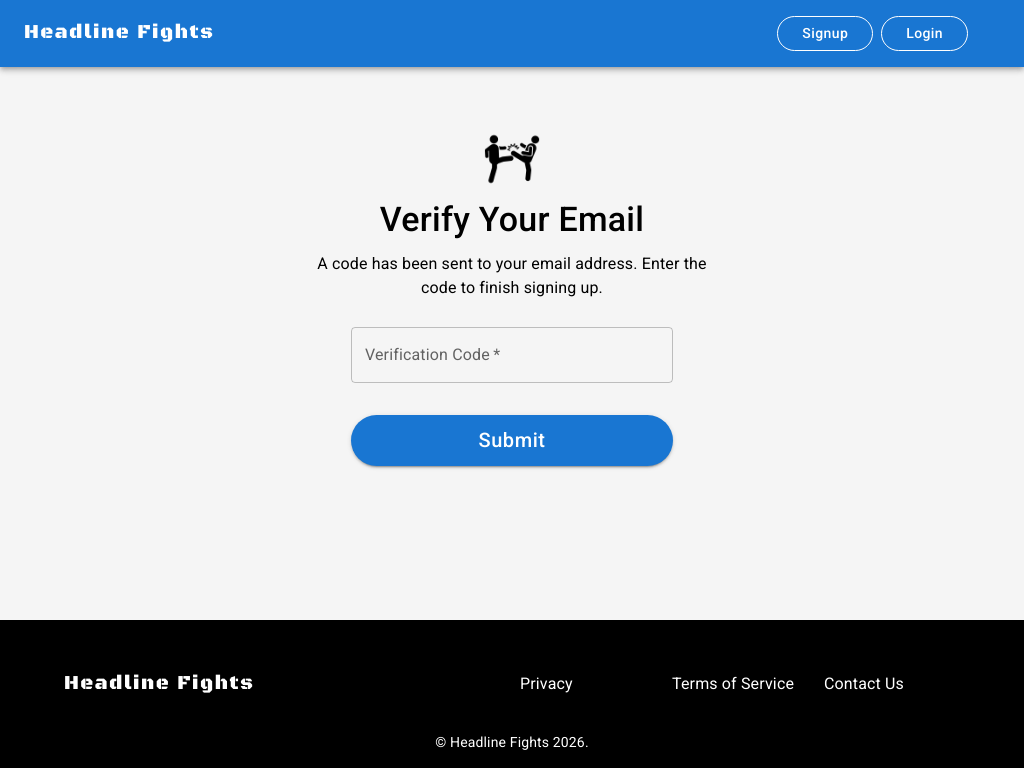
Test: Verify page › shows expired-code error when submitted_in_time is false
Type "000000" into the field labelled "Verification Code *" at (512, 356), box 351,328 -> 673,384
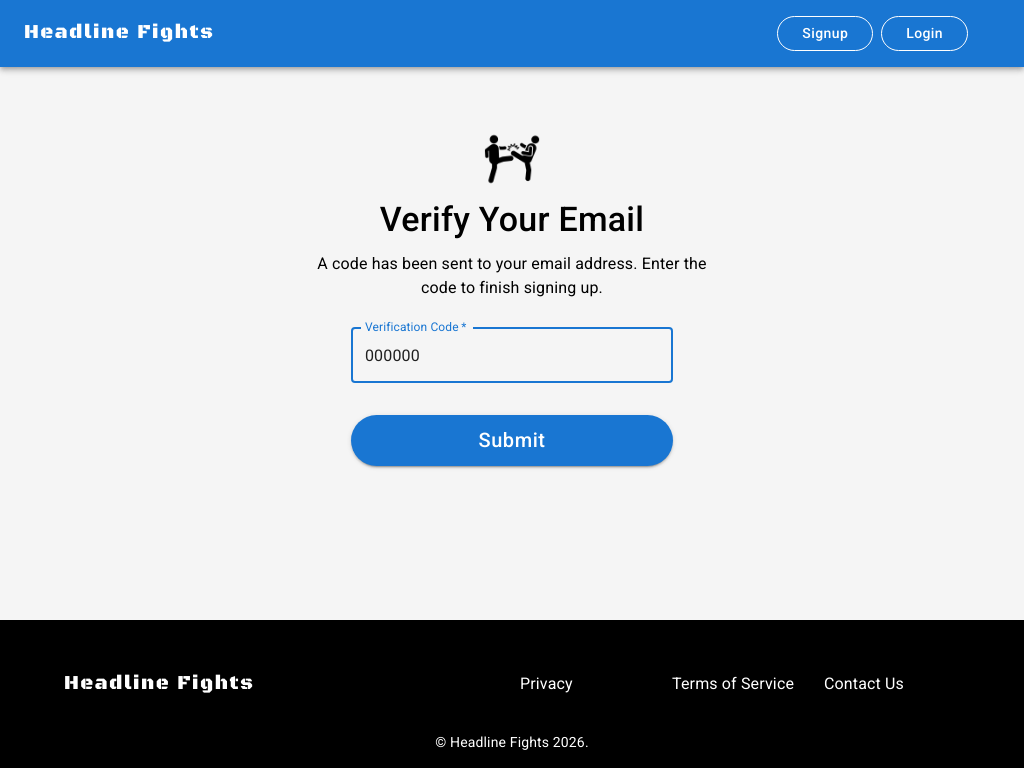
Submit the form "Verification Code * Submit", box 351,312 -> 673,482
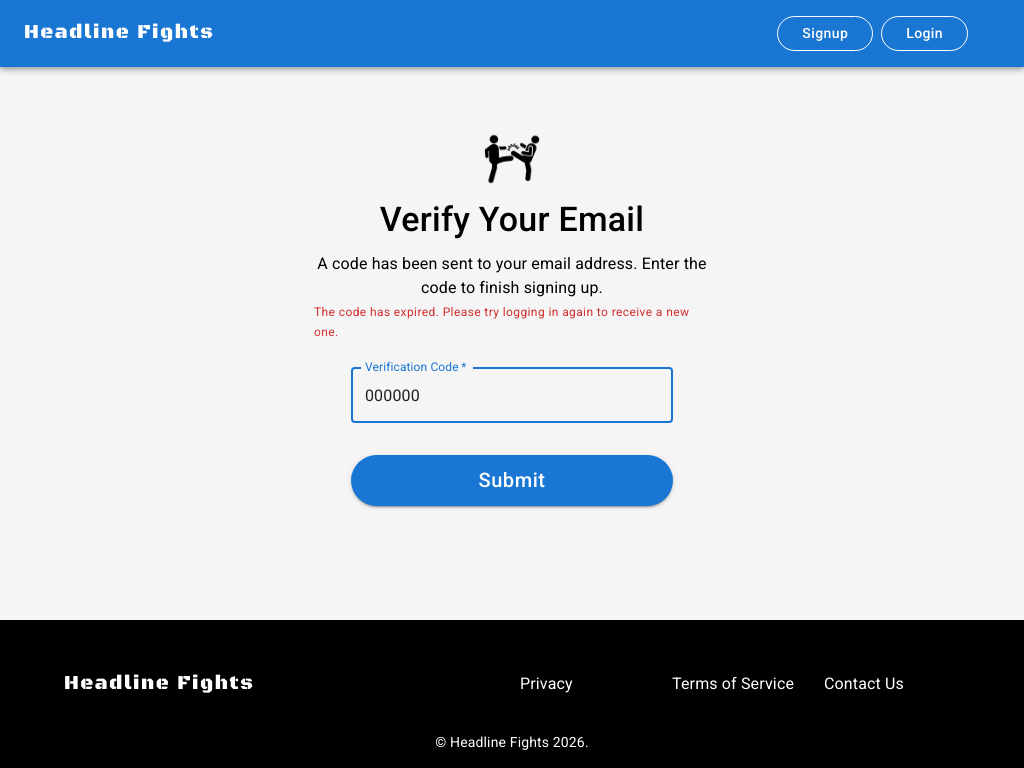
Check: the text "code has expired" is shown, box 314,306 -> 689,339
